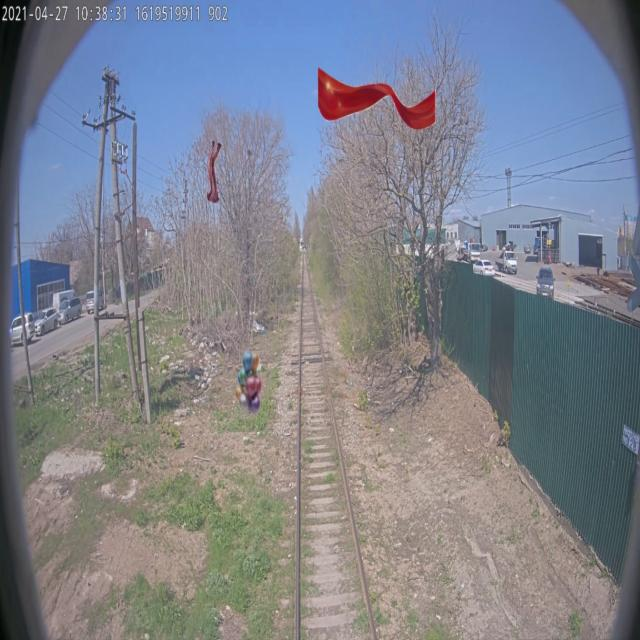balloon: (235, 350, 262, 414)
floating object: (315, 67, 438, 131), (206, 140, 222, 204)
